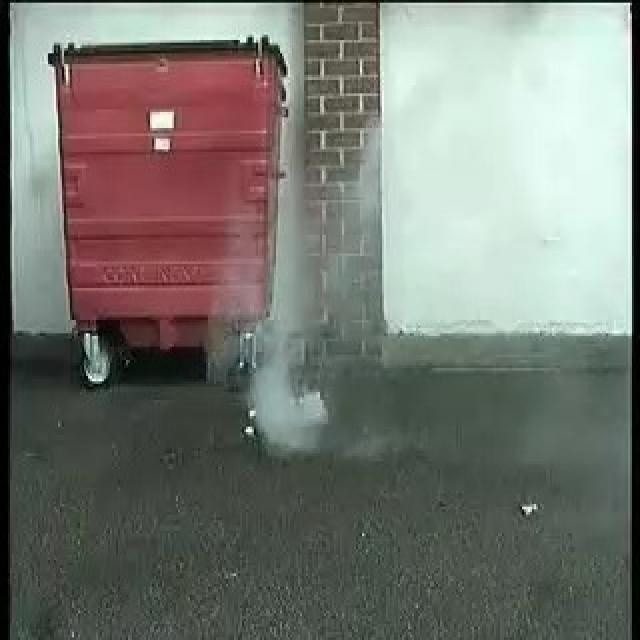smoke: (245, 272, 342, 464)
